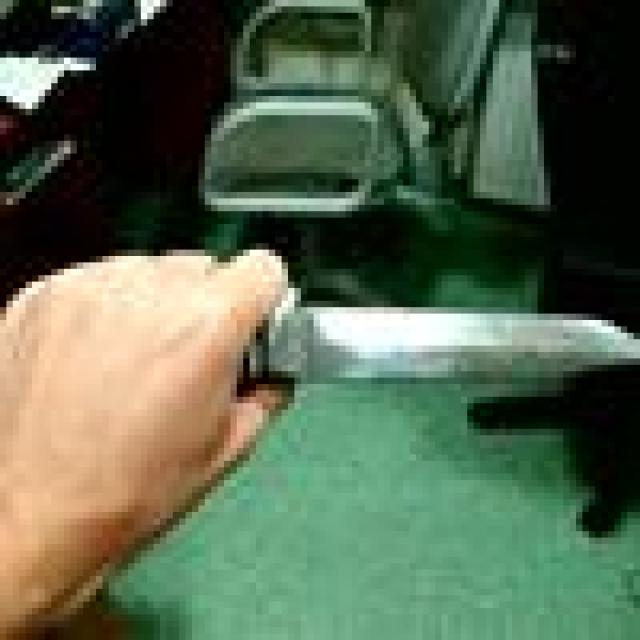knife: (266, 308, 638, 379)
